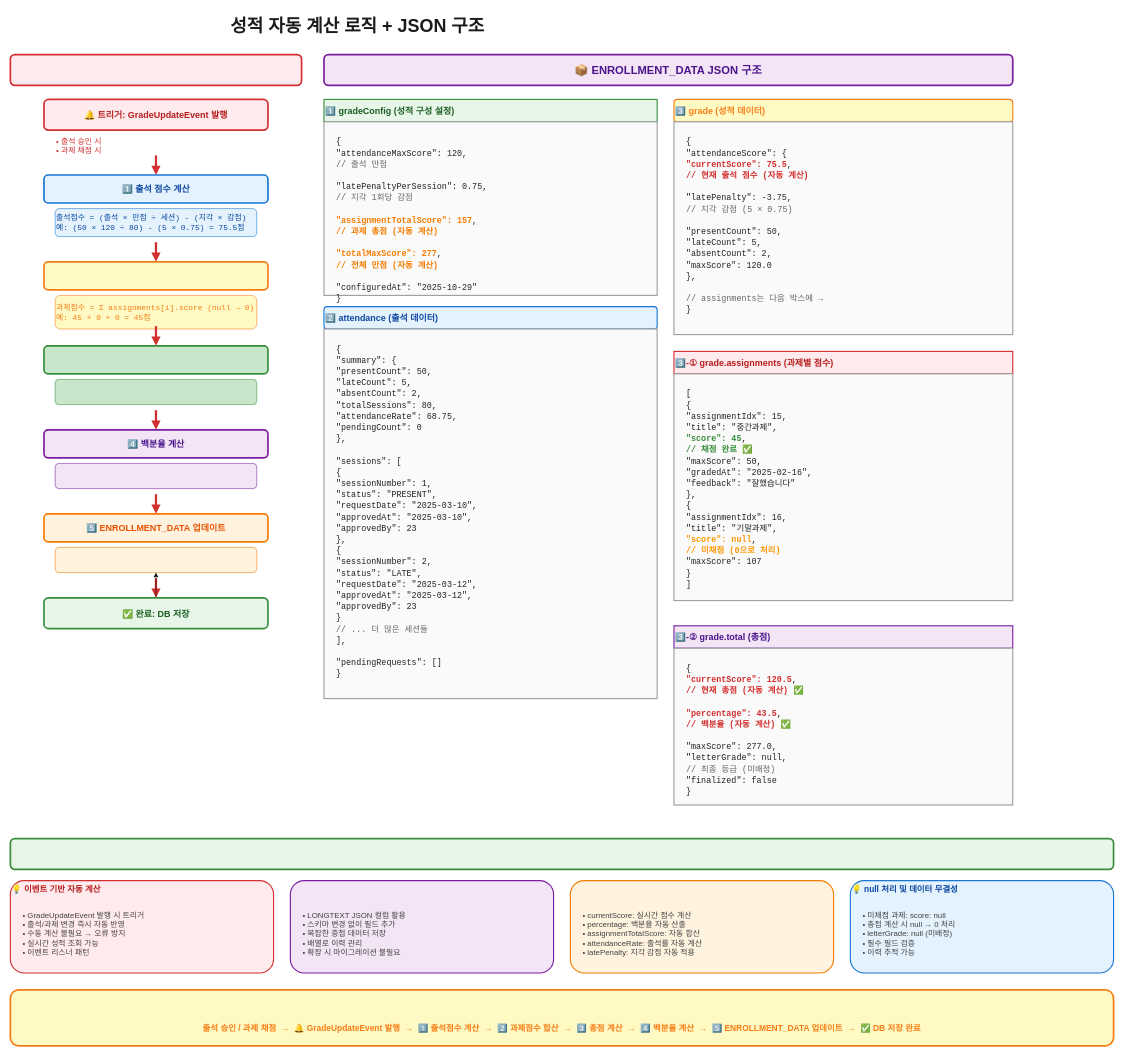
Some shapes in this 1124 by 1056 pixel diagram are drawn without their labels. Each missing label, with the box of its shape:
2️⃣ 과제 점수 합산: (43, 261, 269, 290)
3️⃣ 총점 계산: (43, 345, 269, 374)
grade.total.currentScore = 120.5 grade.total.percentage = 43.5: (55, 547, 257, 573)
⚙️ 자동 계산 로직 플로우: (9, 53, 302, 86)
백분율 = (총점 ÷ 만점) × 100 예: (120.5 ÷ 277) × 100 = 43.5%: (55, 463, 257, 489)
총점 = 출석점수 + 과제점수 예: 75.5 + 45 = 120.5점: (55, 379, 257, 405)
🎯 시스템 핵심 특징: (9, 837, 1114, 870)
💡 JSON 기반 확장 가능 구조: (290, 880, 554, 973)
💡 자동 필드 계산: (570, 880, 834, 973)
📋 계산 흐름 요약: (9, 989, 1114, 1046)
